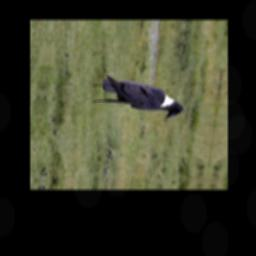Crow: (90, 75, 189, 119)
